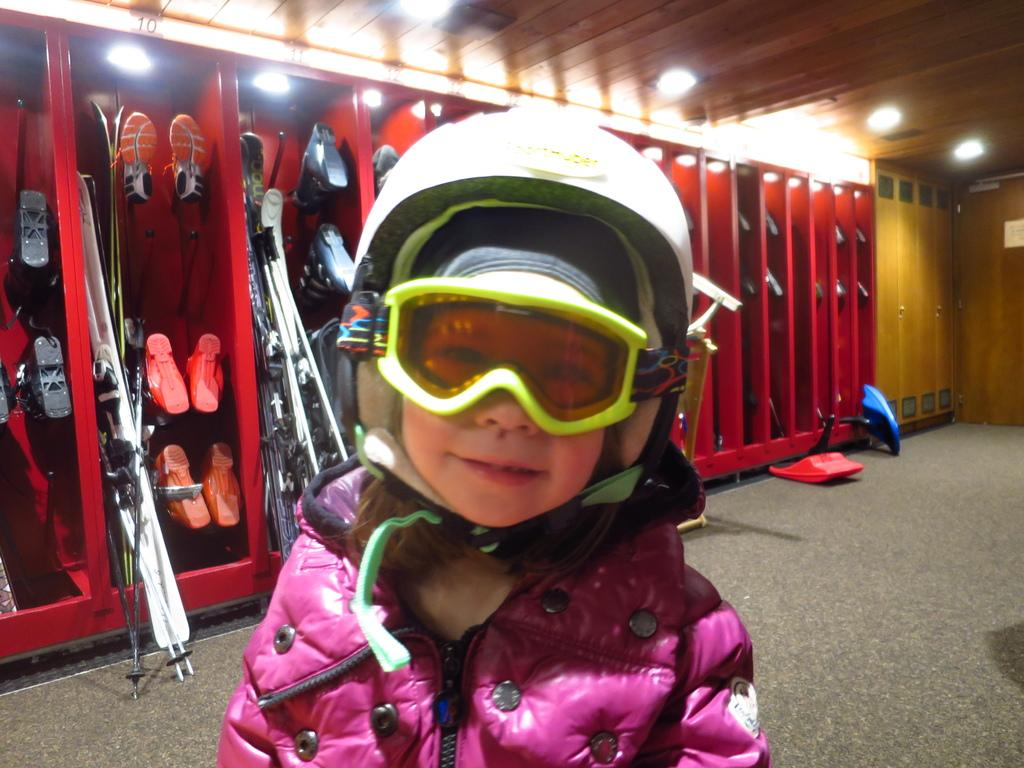helmet: (336, 106, 693, 526)
